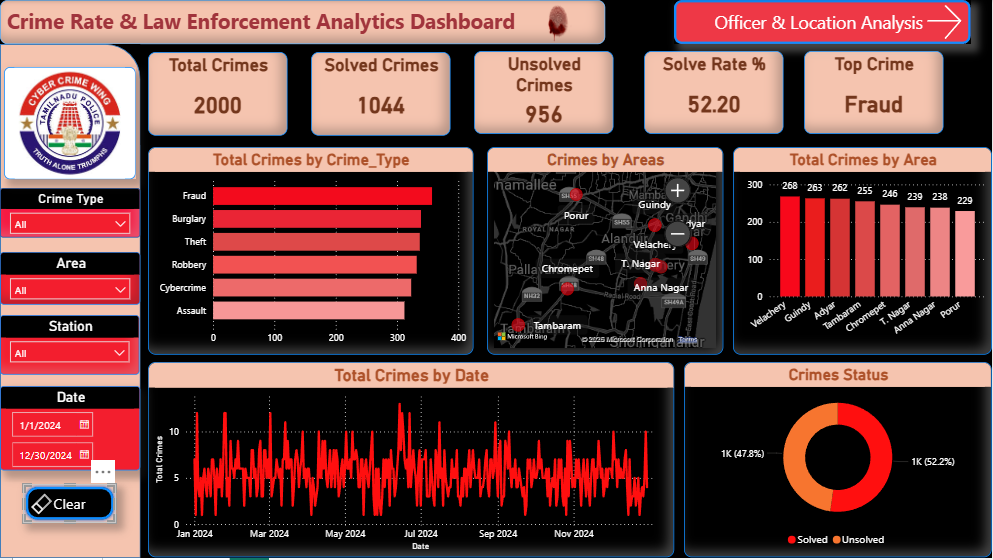

What the dashboard file says about the page in this screenshot:
{"tool":"powerbi","page":{"name":"overview","canvas":[1280,720],"ordinal":0},"visuals":[{"type":"textbox","box":[0,0,780.9,56.7],"z":0},{"type":"shape","box":[0,56.7,181.4,663.3],"z":1000},{"type":"card","title":"Total Crimes","fields":{"Values":["chennai_crime_fact.Total Crimes"]},"box":[191.3,66.6,180,107.7],"z":2000},{"type":"card","title":"Solved Crimes","fields":{"Values":["chennai_crime_fact.Solved Crimes"]},"box":[401.1,66.6,180,107.7],"z":3000},{"type":"card","title":"Unsolved  Crimes","fields":{"Values":["chennai_crime_fact.Unsolved Crimes"]},"box":[611.4,65.7,180,107.1],"z":4000},{"type":"card","title":"Solve Rate %","fields":{"Values":["chennai_crime_fact.Solve Rate %"]},"box":[831.4,65.7,180,107.1],"z":5000},{"type":"clusteredBarChart","fields":{"Category":["chennai_crime_fact.Crime_Type"],"Y":["chennai_crime_fact.Total Crimes"]},"box":[191.3,189.9,419.5,267.9],"z":6000},{"type":"lineChart","fields":{"Category":["chennai_crime_fact.Date"],"Y":["chennai_crime_fact.Total Crimes"]},"box":[191.3,467.7,678.9,252.3],"z":7000},{"type":"donutChart","title":" Crimes  Status","fields":{"Category":["chennai_crime_fact.Status"],"Y":["chennai_crime_fact.Total Crimes"]},"box":[883,467.7,396.9,252.3],"z":8000},{"type":"map","title":" Crimes by Areas","fields":{"Category":["chennai_location_dim.Area"],"Size":["chennai_crime_fact.Total Crimes"]},"box":[627.9,189.9,304.7,267.9],"z":9000},{"type":"columnChart","fields":{"Y":["chennai_crime_fact.Total Crimes"],"Category":["chennai_location_dim.Area"]},"box":[945.4,189.9,334.5,267.9],"z":10000},{"type":"slicer","title":"Date","fields":{"Values":["chennai_crime_fact.Date"]},"box":[0,497.5,181.4,109.1],"z":11000},{"type":"slicer","title":"Crime  Type","fields":{"Values":["chennai_crime_fact.Crime_Type"]},"box":[0,242.4,181.4,63.8],"z":12000},{"type":"slicer","title":"Area","fields":{"Values":["chennai_location_dim.Area"]},"box":[0,324.6,181.4,68],"z":13000},{"type":"slicer","title":"Station","fields":{"Values":["chennai_police_dim.Station"]},"box":[0,406.8,180,76.5],"z":14000},{"type":"actionButton","box":[29.8,625,120.5,49.6],"z":15000},{"type":"image","box":[674.6,0,90.7,56.7],"z":16000},{"type":"image","box":[5.7,86.5,170.1,144.6],"z":17000},{"type":"card","title":"Top Crime","fields":{"Values":["chennai_crime_fact.Top Crime"]},"box":[1037.1,65.7,180,107.1],"z":18000},{"type":"actionButton","box":[870.2,0,382.7,56.7],"z":18001}]}

Visuals, with their boxes in screenshot pixels (x1, y1, x2, y2), scaled from the page's 1280x720 canvas onto the 993x560 screenshot:
textbox: (x1=0, y1=0, x2=606, y2=44)
shape: (x1=0, y1=44, x2=141, y2=559)
"Total Crimes" card: (x1=148, y1=52, x2=288, y2=136)
"Solved Crimes" card: (x1=311, y1=52, x2=451, y2=136)
"Unsolved  Crimes" card: (x1=474, y1=51, x2=614, y2=134)
"Solve Rate %" card: (x1=645, y1=51, x2=785, y2=134)
clusteredBarChart - chennai_crime_fact.Crime_Type x chennai_crime_fact.Total Crimes: (x1=148, y1=148, x2=474, y2=356)
lineChart - chennai_crime_fact.Date x chennai_crime_fact.Total Crimes: (x1=148, y1=364, x2=675, y2=559)
" Crimes  Status" donutChart: (x1=685, y1=364, x2=992, y2=559)
" Crimes by Areas" map: (x1=487, y1=148, x2=723, y2=356)
columnChart - chennai_crime_fact.Total Crimes x chennai_location_dim.Area: (x1=733, y1=148, x2=992, y2=356)
"Date" slicer: (x1=0, y1=387, x2=141, y2=472)
"Crime  Type" slicer: (x1=0, y1=189, x2=141, y2=238)
"Area" slicer: (x1=0, y1=252, x2=141, y2=305)
"Station" slicer: (x1=0, y1=316, x2=140, y2=376)
actionButton: (x1=23, y1=486, x2=117, y2=525)
image: (x1=523, y1=0, x2=594, y2=44)
image: (x1=4, y1=67, x2=136, y2=180)
"Top Crime" card: (x1=805, y1=51, x2=944, y2=134)
actionButton: (x1=675, y1=0, x2=972, y2=44)
